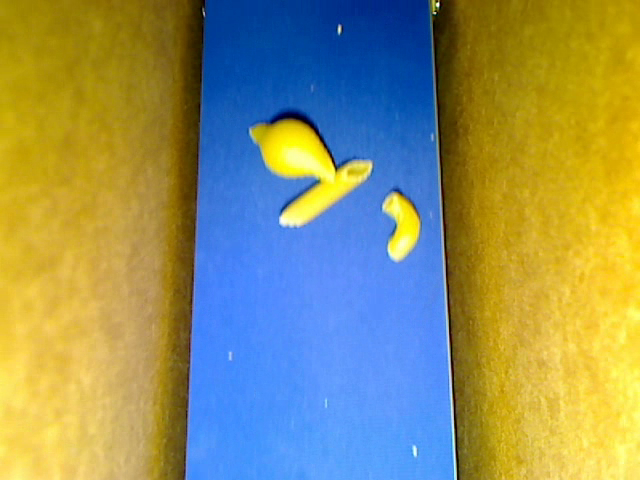elbow: (381, 190, 421, 264)
penne: (278, 158, 374, 227)
shell: (248, 119, 337, 182)
